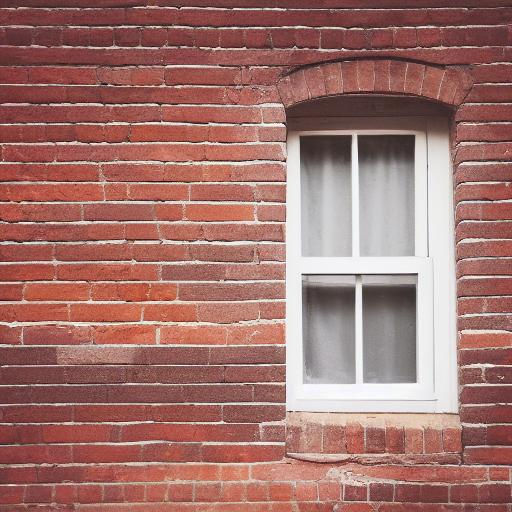Window: (271, 56, 477, 469)
